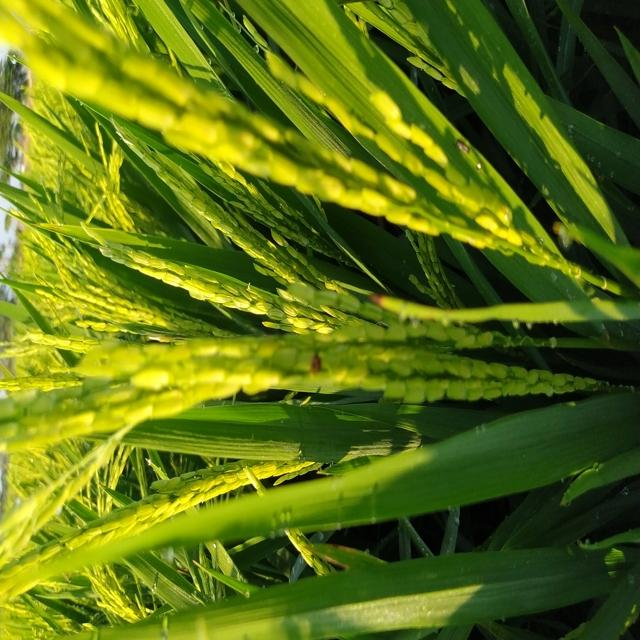Brown spot: (297, 538, 368, 572), (364, 289, 388, 313)
